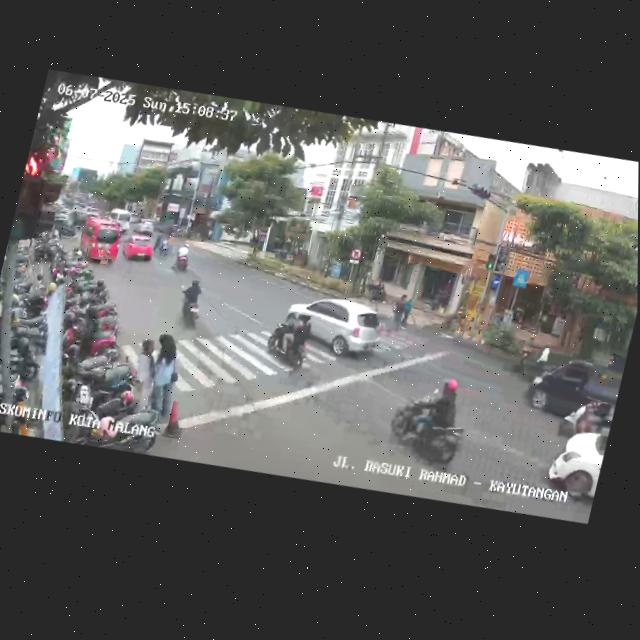car: (514, 336, 626, 432), (275, 282, 392, 373), (539, 416, 610, 515), (72, 212, 125, 271), (119, 231, 157, 268), (129, 216, 159, 240)
motorcycle: (384, 371, 476, 475), (261, 301, 322, 377), (554, 376, 618, 448), (173, 274, 209, 332), (171, 238, 195, 273), (156, 231, 173, 257)
person: (138, 328, 188, 429), (123, 334, 163, 416), (388, 291, 407, 333), (399, 296, 416, 331)
